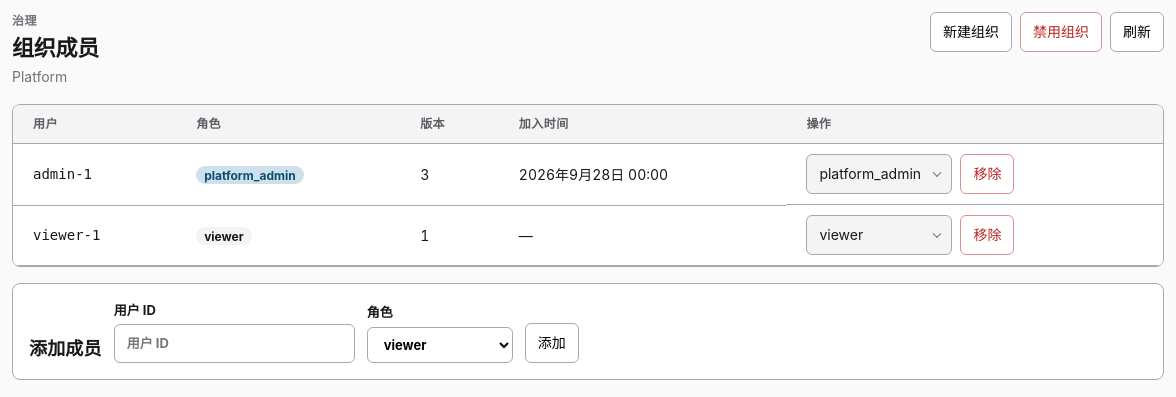
Scenario: OrganizationPage › refuses a duplicate member locally
This screenshot has width=1176, height=397.
Type "viewer-1" into the field named "userId" at [234, 343], box [114,324,355,362]
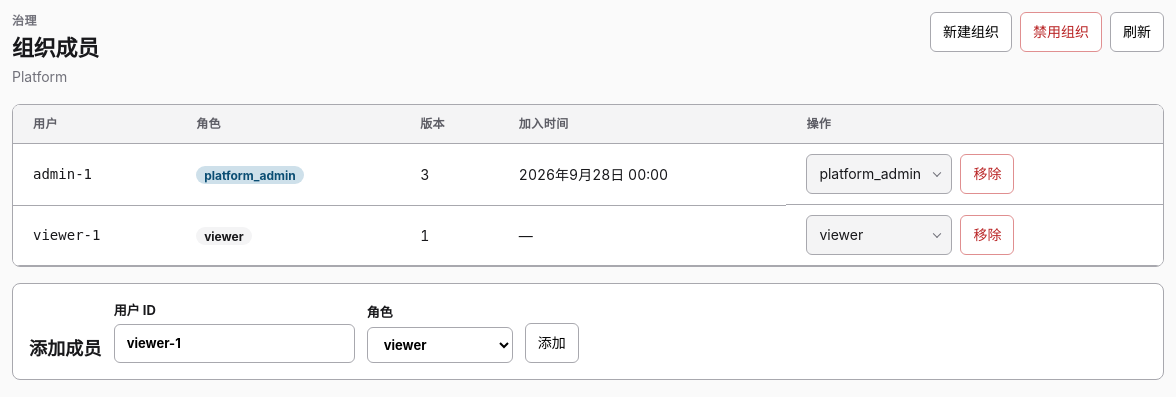
Submit the form, box [12,283,1164,380]
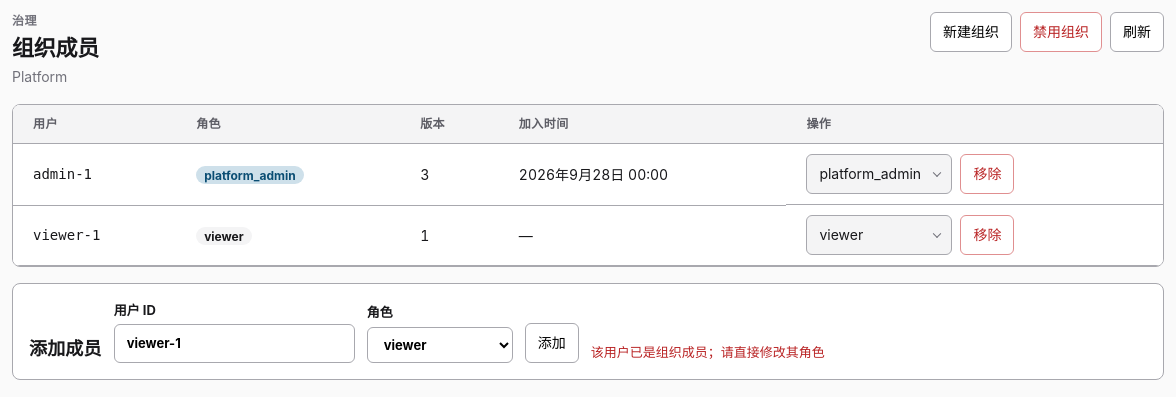
Now the message with test id "organization-add-error" shows "已是组织成员", box [591,344,825,360]
